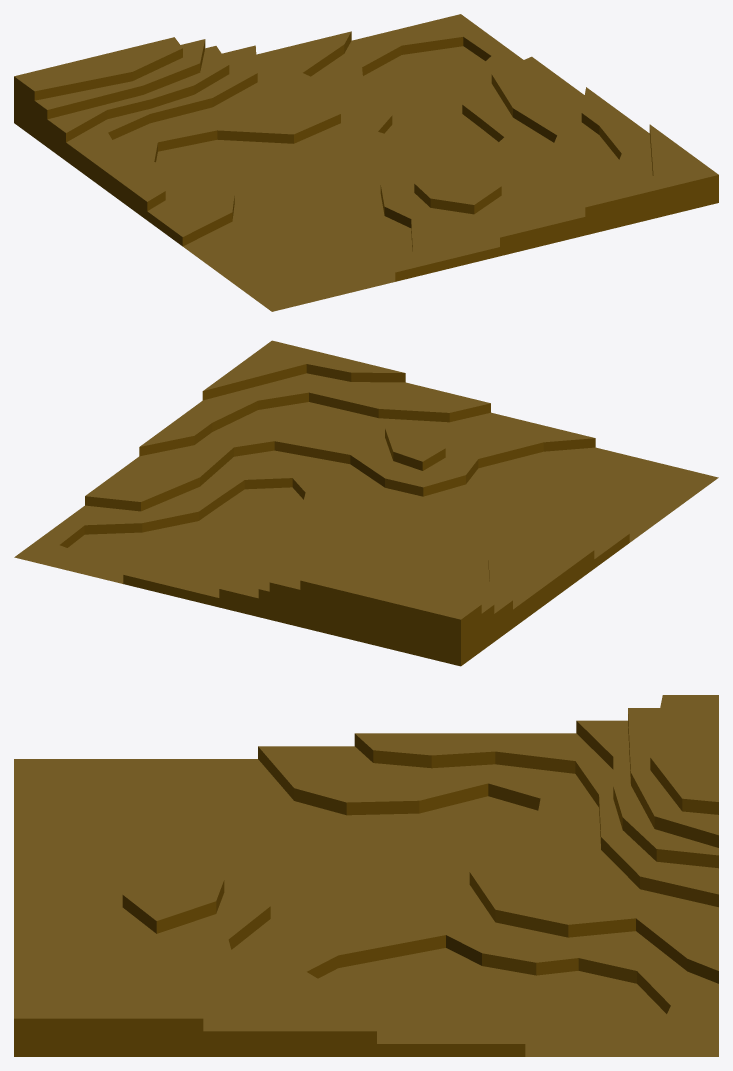
Rendered from terrain.fbx.
The picture shows the model from 3 angles, top to bottom: view 1: azimuth 30°, elevation 25°; view 2: azimuth 150°, elevation 25°; view 3: azimuth 270°, elevation 25°; orthographic projection. The views are drawn at different scales.
Visible parts, largest first — view 1: Plane.001; view 2: Plane.001; view 3: Plane.001.
Part boxes in pixels (x1,y1,x2,y2): Plane.001: (14,14,718,311); Plane.001: (14,340,718,666); Plane.001: (14,695,718,1056).
Size of the model in its own units: 10000 by 1200 by 10000.
